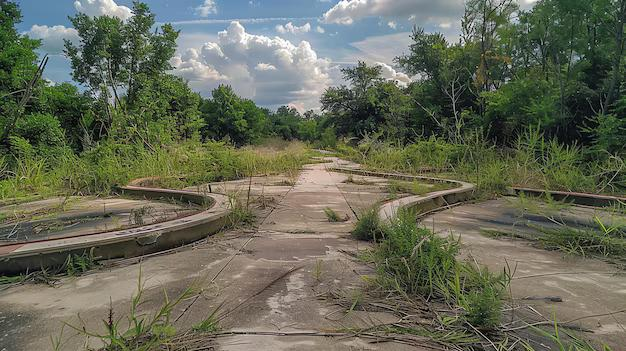overgrown grass: (367, 224, 516, 351), (381, 142, 626, 187), (3, 145, 300, 178), (96, 287, 221, 351), (528, 198, 626, 261), (524, 318, 626, 351), (6, 255, 98, 284), (9, 175, 118, 194), (228, 201, 260, 217), (327, 208, 349, 224), (346, 178, 375, 187)
